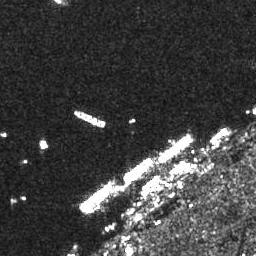ship: (70, 178, 115, 212), (157, 132, 193, 163), (120, 156, 154, 183), (73, 108, 107, 129), (208, 127, 228, 144), (39, 139, 49, 150)
